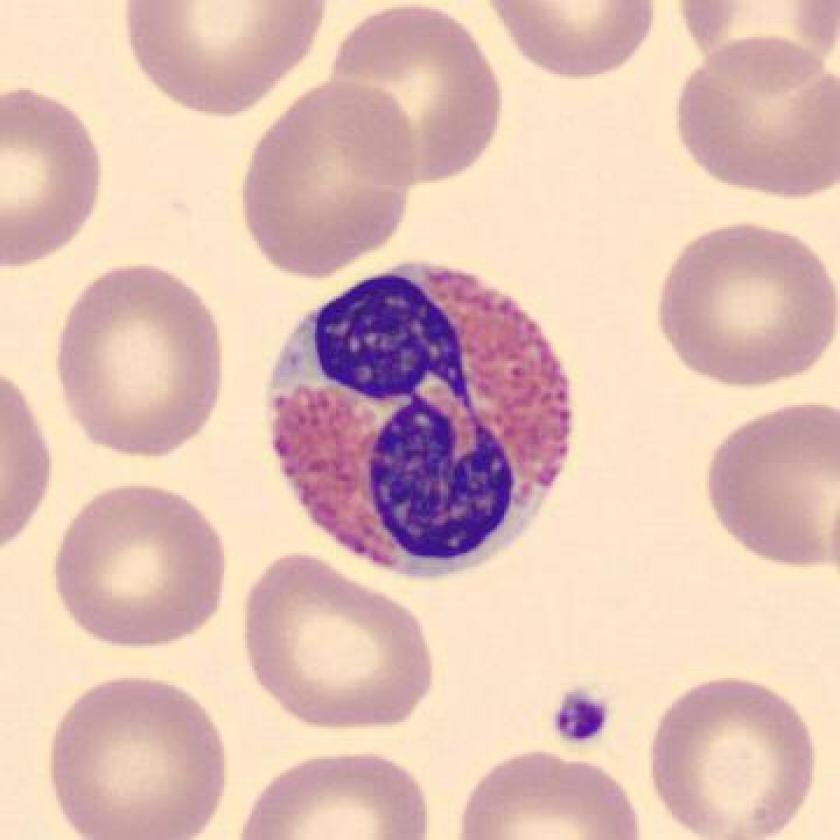eosinophil: (255, 249, 587, 587)
